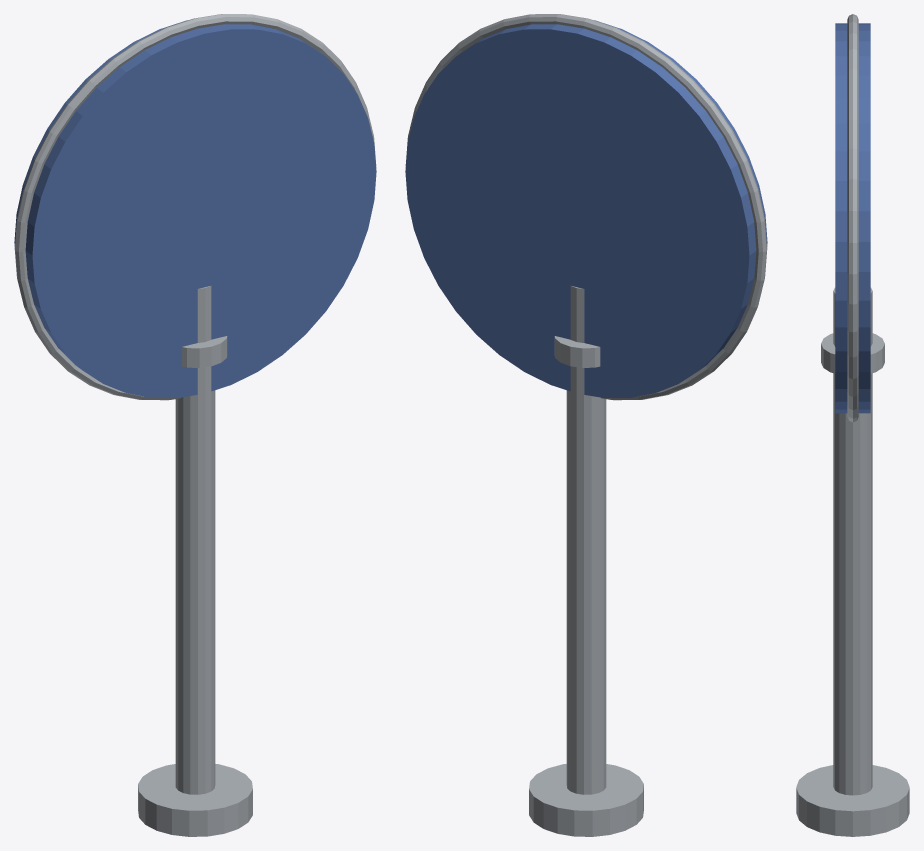
Rendered from state-fair-pin-police.glb.
3 renders of one model, left to right at view 1: azimuth 30°, elevation 25°; view 2: azimuth 150°, elevation 25°; view 3: azimuth 270°, elevation 25°, orthographic.
Parts seen in each view (by area): view 1: SFPIN_SignDisc, SFPIN_Post, SFPIN_Rim, SFPIN_Base, SFPIN_Collar; view 2: SFPIN_SignDisc, SFPIN_Post, SFPIN_Rim, SFPIN_Base, SFPIN_Collar; view 3: SFPIN_Post, SFPIN_SignDisc, SFPIN_Base, SFPIN_Rim, SFPIN_Collar.
Part boxes in pixels (box(x1,y1,x2,y2)): SFPIN_SignDisc: box(14, 20, 376, 397); SFPIN_Post: box(175, 286, 215, 794); SFPIN_Rim: box(14, 14, 376, 400); SFPIN_Base: box(138, 764, 252, 836); SFPIN_Collar: box(181, 336, 227, 367); SFPIN_SignDisc: box(405, 20, 767, 397); SFPIN_Post: box(566, 286, 606, 794); SFPIN_Rim: box(405, 14, 767, 400); SFPIN_Base: box(529, 764, 643, 836); SFPIN_Collar: box(554, 336, 600, 367); SFPIN_Post: box(833, 287, 872, 795); SFPIN_SignDisc: box(835, 23, 870, 413); SFPIN_Base: box(796, 765, 909, 836); SFPIN_Rim: box(847, 14, 858, 422); SFPIN_Collar: box(821, 333, 884, 373).
Size of the model in its own units: 1.15 by 2.43 by 0.32.
